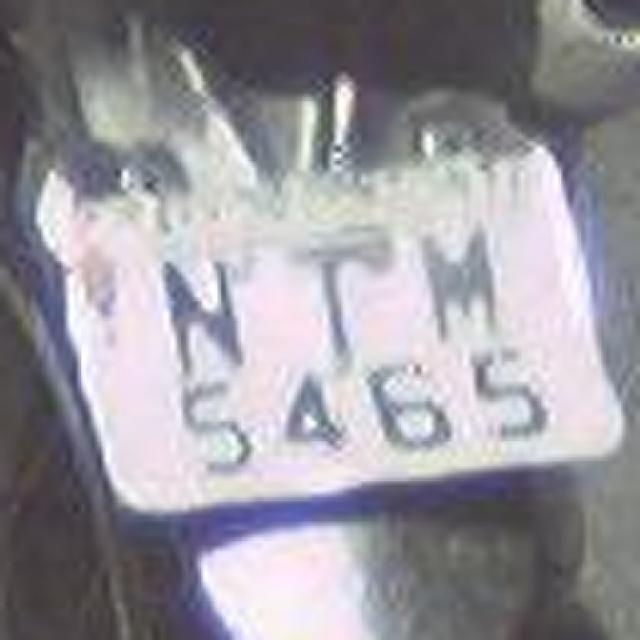4: (256, 340, 372, 472)
5: (148, 352, 272, 480), (448, 336, 568, 452)
6: (344, 344, 468, 468)
M: (404, 200, 511, 365)
N: (152, 236, 252, 392)
